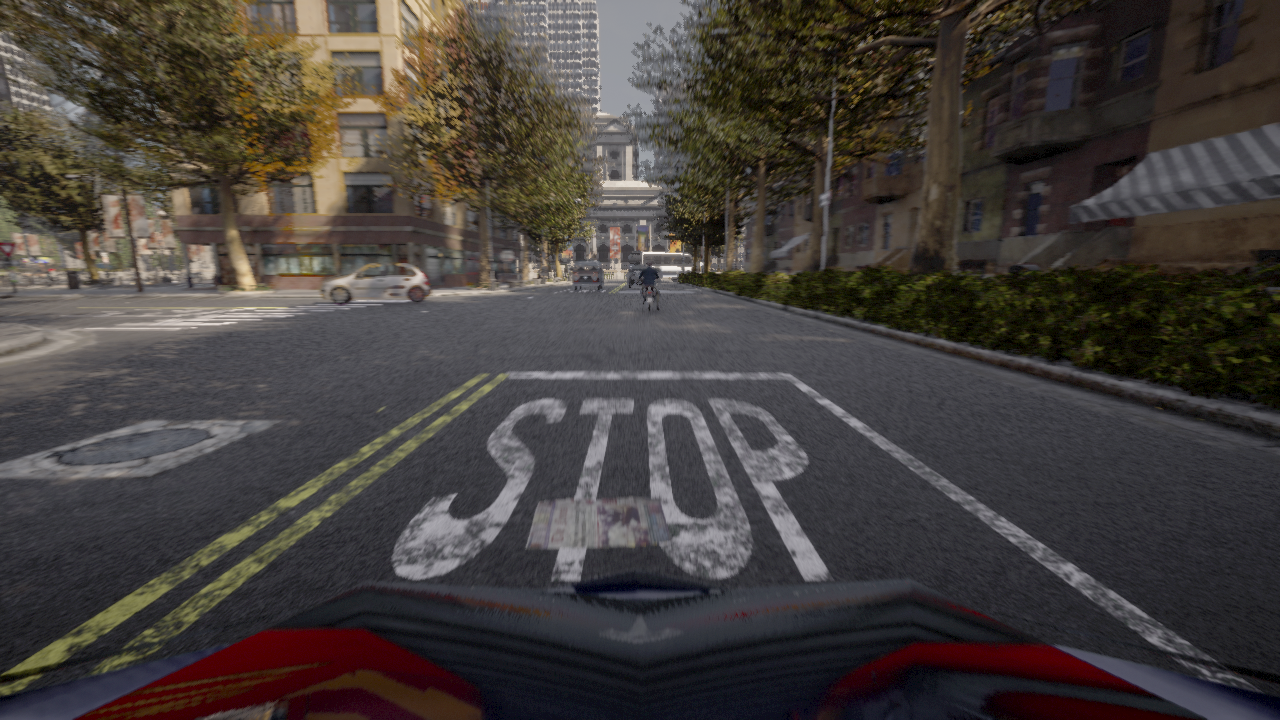cyclist: (0, 569, 1279, 719), (320, 263, 431, 304), (629, 251, 692, 281), (636, 272, 661, 312), (570, 261, 603, 291), (626, 269, 643, 289), (629, 265, 646, 271)
